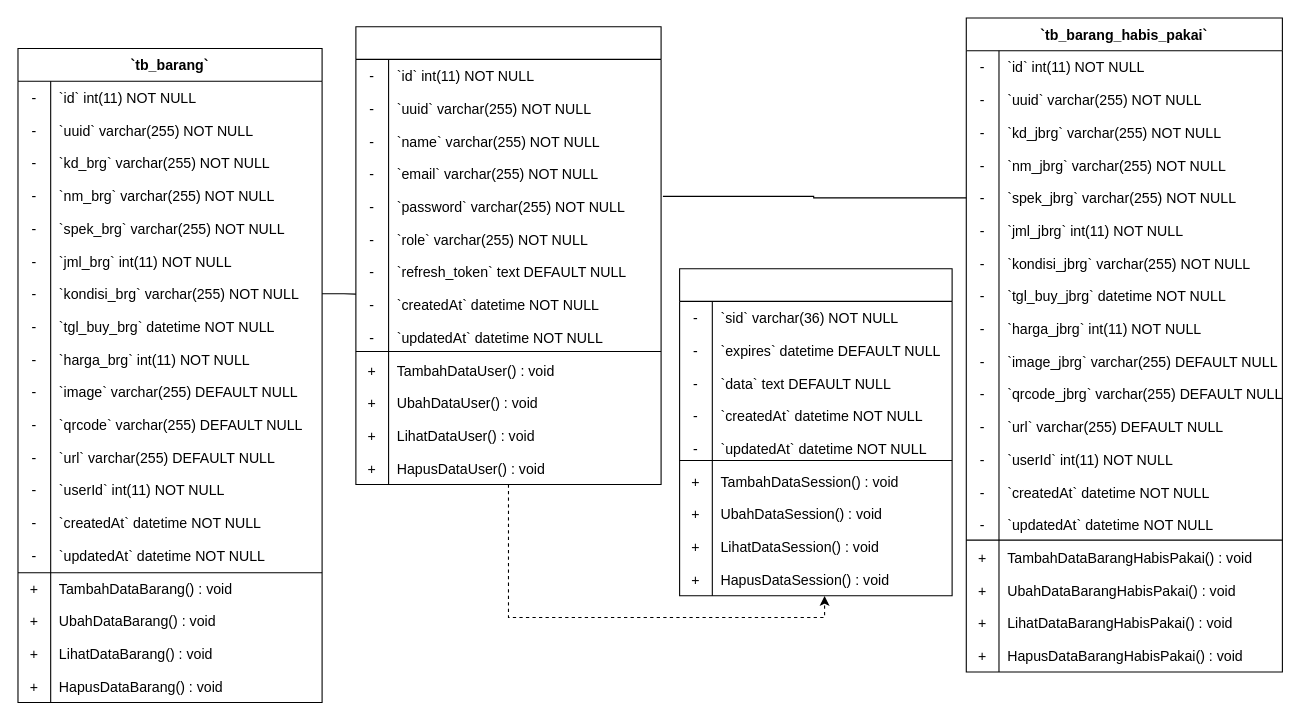
Image size: 1300x720. Some labels were removed from this diagram. Here are the shapes that lost their labels. From the top down, the box of each, then its label:
(355, 26, 661, 485): `users`
(679, 268, 952, 596): `Sessions`
